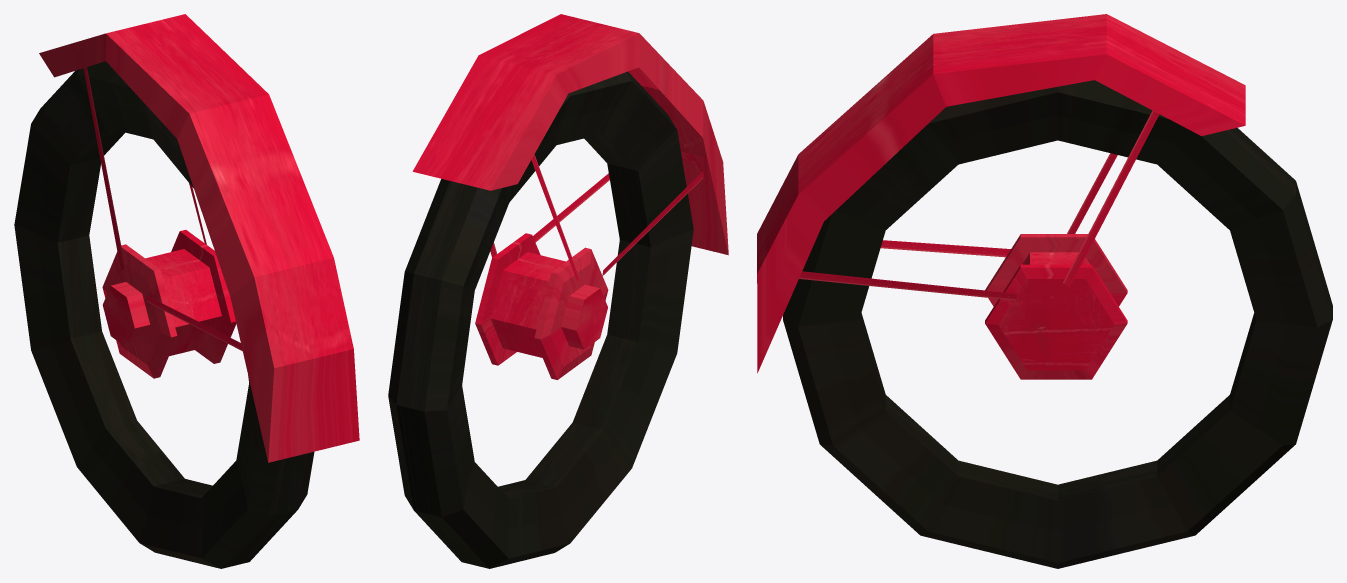
The model's file is wheelR.glb.
3 renders of one model, left to right at view 1: azimuth 30°, elevation 25°; view 2: azimuth 150°, elevation 25°; view 3: azimuth 270°, elevation 25°, orthographic. The views are drawn at different scales.
Visible parts, largest first — view 1: shift; view 2: shift; view 3: shift.
Part boxes in pixels (x1,y1,x2,y2): shift: (14,14,359,568); shift: (388,14,728,568); shift: (757,14,1332,568).
Size of the model in its own units: 0.3064 by 1.53 by 1.51.
Materials: 1 (1 with a texture image).
